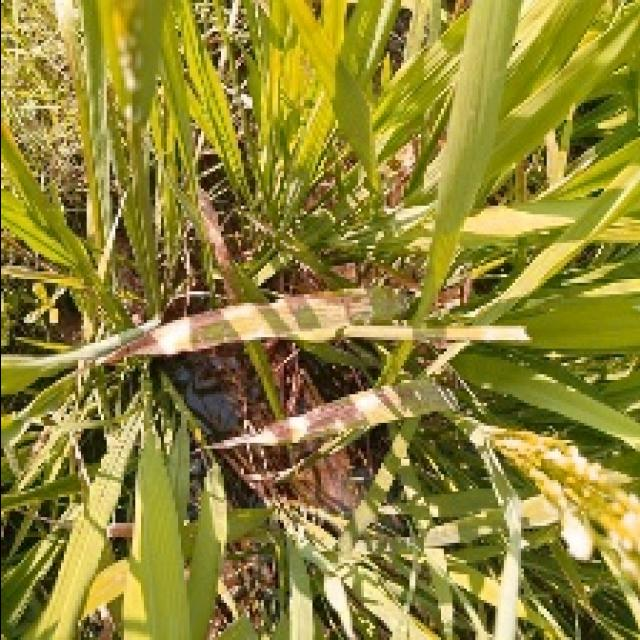Unhealthy: (94, 294, 346, 364), (206, 387, 414, 449)
